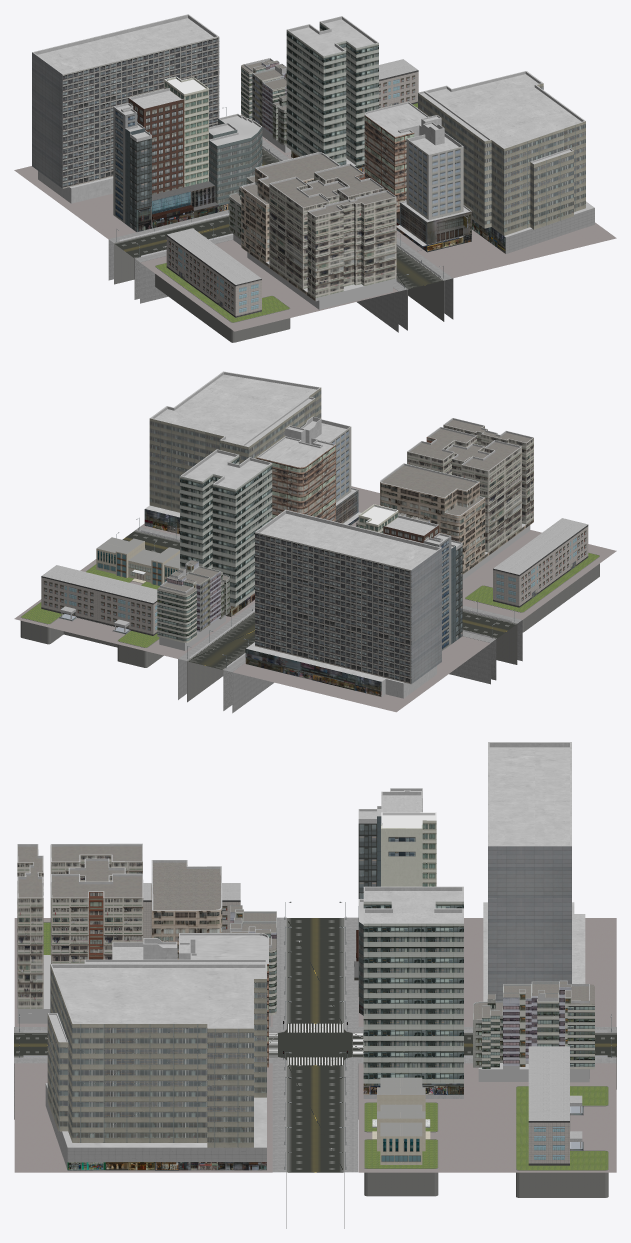
File: crossroad.fbx
3 renders of one model, top to bottom at view 1: azimuth 30°, elevation 25°; view 2: azimuth 150°, elevation 25°; view 3: azimuth 270°, elevation 25°, orthographic. The views are drawn at different scales.
Visible parts, largest first — view 1: build2, build6, build8, build7, build3, build10, lumian3, build11, lumian4, build4, lumian2, lumian5 (+3 smaller); view 2: build6, build8, build2, build3, lumian3, build5, build10, build11, build4, lumian4, build7, lumian2 (+2 smaller); view 3: build2, lumian3, build6, build8, build3, lumian2, build5, build4, build1, build7, lumian4, build10 (+4 smaller).
Part boxes in pixels (x1,y1,x2,y2): build2: (418, 71, 594, 253); build6: (32, 14, 219, 203); build8: (241, 152, 396, 309); build7: (113, 76, 262, 231); build3: (286, 16, 378, 173); build10: (364, 101, 471, 252); lumian3: (14, 108, 616, 331); build11: (155, 228, 290, 342); lumian4: (108, 139, 453, 332); build4: (241, 58, 291, 152); lumian2: (114, 148, 443, 289); lumian5: (114, 147, 444, 330); build6: (245, 509, 441, 698); build8: (380, 418, 533, 579); build2: (144, 371, 321, 534); build3: (180, 449, 272, 616); lumian3: (14, 486, 616, 712); build5: (20, 565, 163, 667); build10: (256, 416, 361, 525); build11: (465, 518, 599, 632); build4: (157, 559, 229, 650); lumian4: (135, 526, 522, 713); build7: (358, 504, 462, 650); lumian2: (122, 531, 516, 669); build2: (45, 959, 266, 1170); lumian3: (14, 918, 616, 1172); build6: (483, 742, 585, 1001); build8: (17, 843, 222, 1023); build3: (363, 886, 463, 1098); lumian2: (14, 918, 616, 1172); build5: (516, 1046, 608, 1197); build4: (473, 980, 594, 1082); build1: (364, 1077, 438, 1196); build7: (354, 788, 436, 1015); lumian4: (14, 917, 616, 1172); build10: (112, 933, 268, 1067).
Size of the model in its own units: 25009 by 10668 by 25008.
